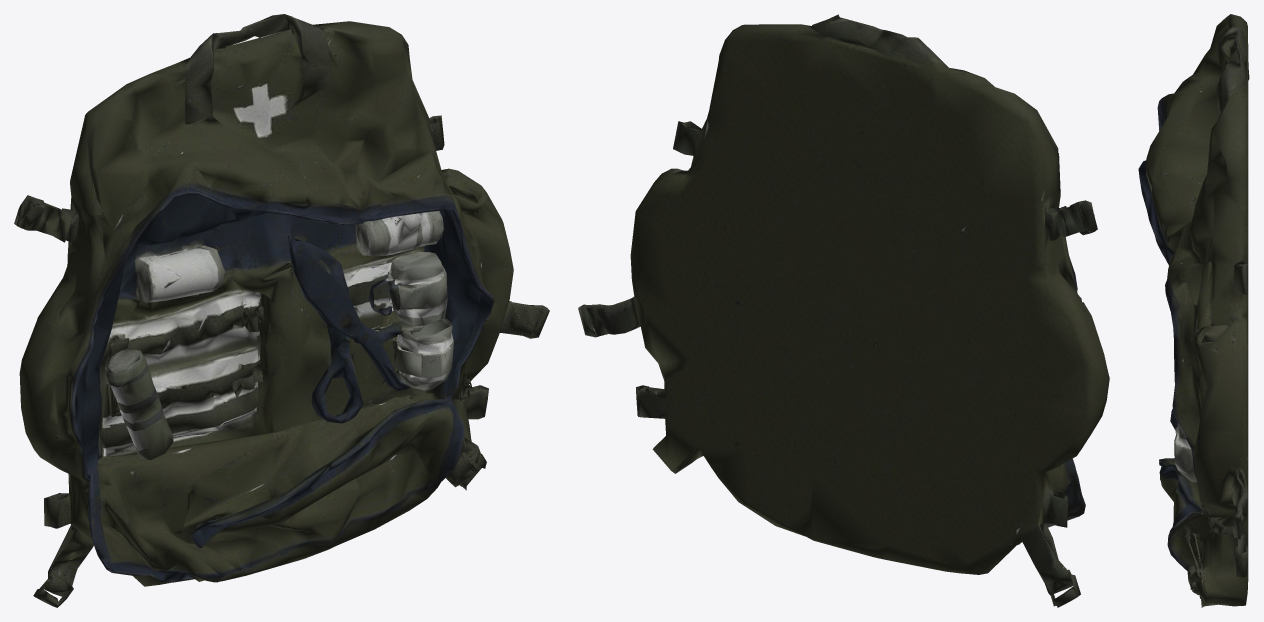
Rendered from sihhiye_cantasi_acik.glb.
3 views of the same model, side by side, from view 1: azimuth 30°, elevation 25°; view 2: azimuth 150°, elevation 25°; view 3: azimuth 270°, elevation 25° (orthographic). The views are drawn at different scales.
Parts seen in each view (by area): view 1: kok; view 2: kok; view 3: kok.
Boxes of the visible parts, x1,y1,x2,y2 form: kok: [14, 14, 549, 607]; kok: [578, 14, 1109, 607]; kok: [1138, 14, 1249, 607].
Bounding box in the file's own units: 0.6 × 0.5835 × 0.1149.
Materials: 1 (1 with a texture image).
